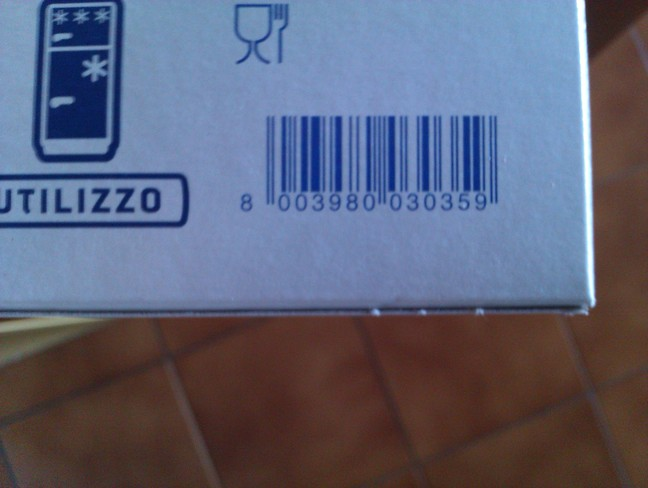detection: (225, 95, 512, 219)
